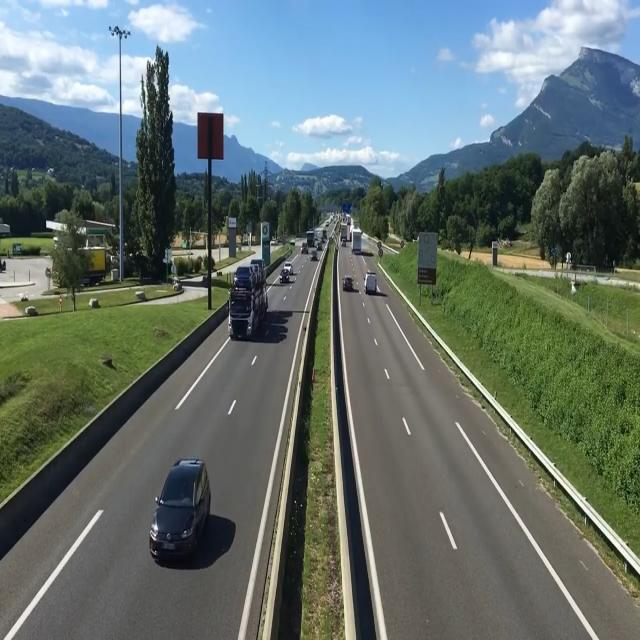car: (155, 456, 216, 566), (363, 271, 381, 300), (341, 273, 355, 296), (280, 266, 290, 288), (310, 250, 318, 263)
truck: (225, 258, 268, 340), (350, 228, 363, 256)
